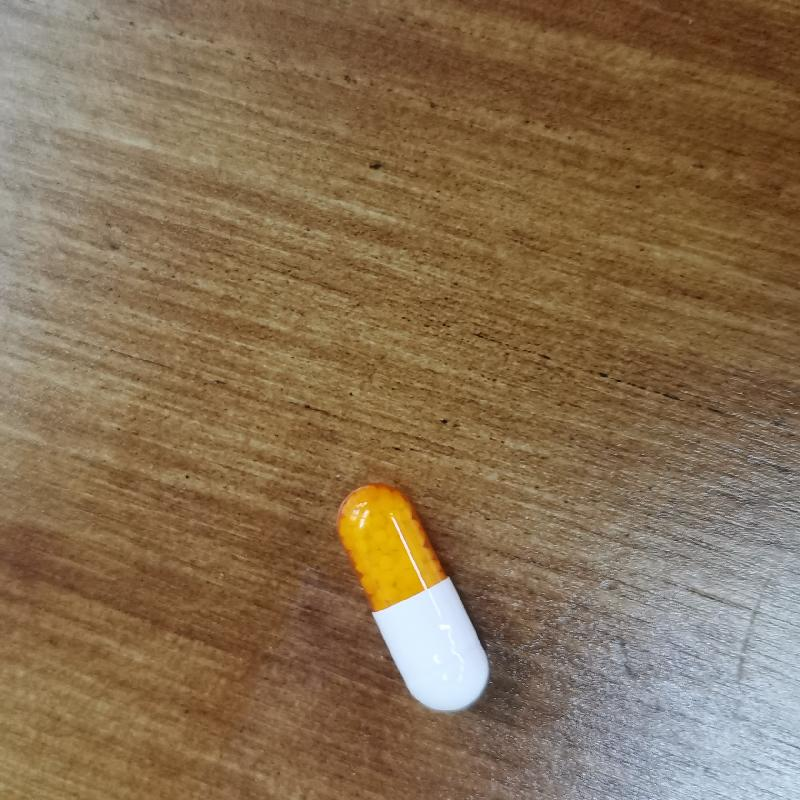pills: (327, 475, 505, 733)
